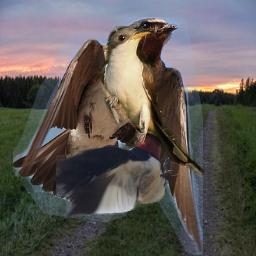Cuckoo: (100, 26, 207, 181)
Swallow: (13, 17, 203, 255)
Woodpecker: (56, 122, 180, 218)
